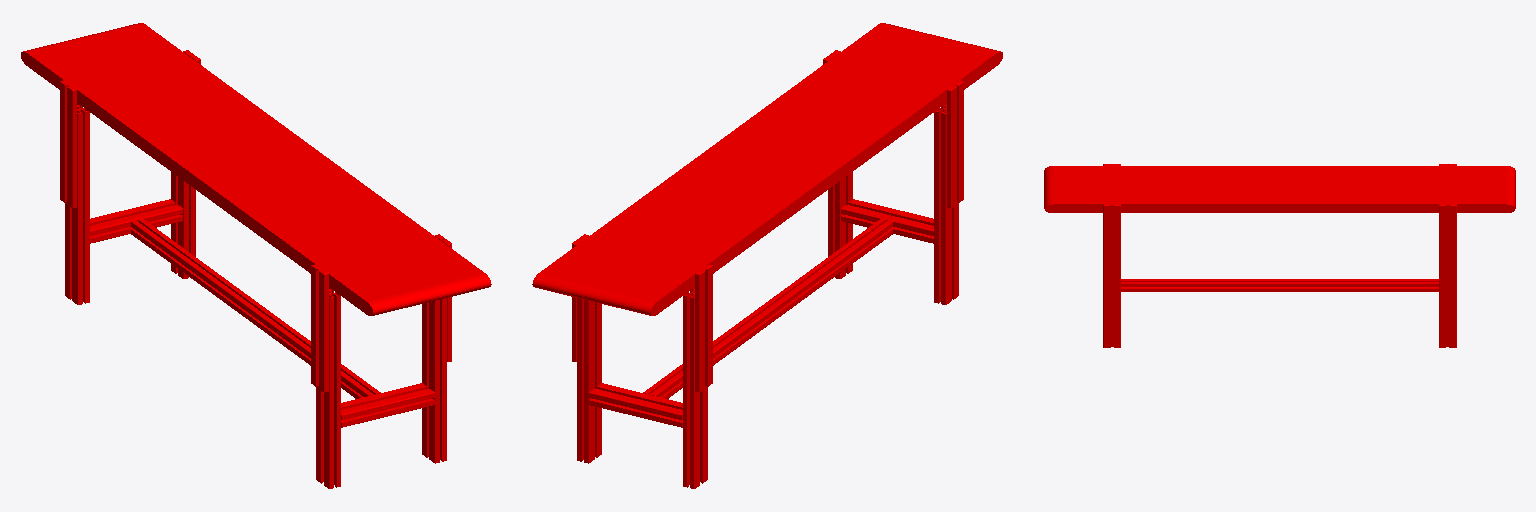
URDF robot description (liukuhihna_gazebo):
<?xml version="1.0" encoding="utf-8"?>
<!-- This URDF was automatically created by SolidWorks to URDF Exporter! Originally created by [author] ([email redacted]) 
     Commit Version: 1.5.1-0-g916b5db  Build Version: 1.5.7152.31018
     For more information, please see http://wiki.ros.org/sw_urdf_exporter -->
<robot name="liukuhihna_gazebo">

	<link name="world" />

	<joint name="fixed" type="fixed">
		<parent link="world"/>
		<child link="belt_visual"/>
		<origin xyz="0.4 0.0 0.0" rpy="0.0 0.0 0"/>
	</joint>
	

	<link name="belt_visual">
		<inertial>
			<origin xyz="0.0 0.0 0.3" rpy="0 0 0" />
			<mass value="71.953" />
			<inertia ixx="7.5972" ixy="-1.394E-14" ixz="1.9328E-17" iyy="0.99673" iyz="-9.2056E-18" izz="8.1168" />
		</inertial>
		<visual>
			<origin xyz="0.0 0 0.37" rpy="0 0 0" />
			<geometry>
				<mesh filename="package://demo_world/meshes/conveyor1.stl" />
			</geometry>
			<material name="white">
				<color rgba="1 0 0 1" />
			</material>
		</visual>
		<collision>
			<origin xyz="0.0 0.0 0.3" rpy="0.0 0.0 0.0"/>
			<geometry>
				<mesh filename="package://demo_world/meshes/conveyor2.stl" />
			</geometry>
		</collision>
	</link>

	<!-- <link name="test_cube">
		<visual>
			<origin xyz="0.0 0.0 0.37" rpy="0.0 0.0 0.0"/>
			<geometry>
				<box size="0.463 1.2 0.74"/>
			</geometry>
			<material name="purple">
				<color rgba="1 0 1 0.2" />
			</material>
		</visual>
	</link> -->

	<joint name="belt_joint" type="prismatic">
		<origin xyz="0.0 0.0 0.74" rpy="0.0 0.0 0.0"/>
		<parent link="belt_visual"/>
		<child link="belt_moving"/>
		<axis xyz="0 1 0"/>
		<limit lower="0.0" upper="1" effort="1000" velocity="1000"/>
	</joint>

	<link name="belt_moving">
		<inertial>
			<origin xyz="0.0 -0.3 0.0" rpy="0.0 0.0 0.0"/>
			<mass value="100"/>
			<inertia ixx="0.0" ixy="0.0" ixz="0.0" iyy="0.0" iyz="0.0" izz="0.0"/>
		</inertial>
		<!-- <visual>
			<origin xyz="0.0 0.0 0.0005" rpy="0.0 0.0 0.0"/>
			<geometry>
				<box size="0.425 1.2 0.001"/>
			</geometry>
			<material name="test">
				<color rgba="1 0 1 1" />
			</material>
		</visual> -->
		<collision>
			<origin xyz="0.0 0.0 0.0005" rpy="0.0 0.0 0.0"/>
			<geometry>
				<box size="0.425 2.2 0.001"/>
			</geometry>
		</collision>
	</link>

	<gazebo>
		<plugin name="conveyor_belt_plugin" filename="libROSConveyorBeltPlugin.so">
			<robot_namespace>/</robot_namespace>
			<link>belt_moving</link>
			<power>0</power>
			<max_velocity>1.0</max_velocity>
		</plugin>
	</gazebo>
</robot>

--- What the picture shows (computed from the rendered views, not written in the file) ---
Views: 3 orthographic renders of the robot side by side, from view 1: azimuth 30°, elevation 25°; view 2: azimuth 150°, elevation 25°; view 3: azimuth 270°, elevation 25°.
Model liukuhihna_gazebo with 3 links and 2 joints (1 prismatic, 1 fixed), rooted at world, posed every joint at zero.
Links seen in each view (by area): view 1: belt_visual; view 2: belt_visual; view 3: belt_visual.
Link boxes in pixels (x1,y1,x2,y2): belt_visual: (21,23,491,488); belt_visual: (532,23,1002,488); belt_visual: (1044,164,1515,347).
Size in the robot's own frame: 0.463 by 2.2 by 0.743 metres.
Meshes: 1 distinct files referenced, 1 mesh visuals loaded (1 binary STL).
